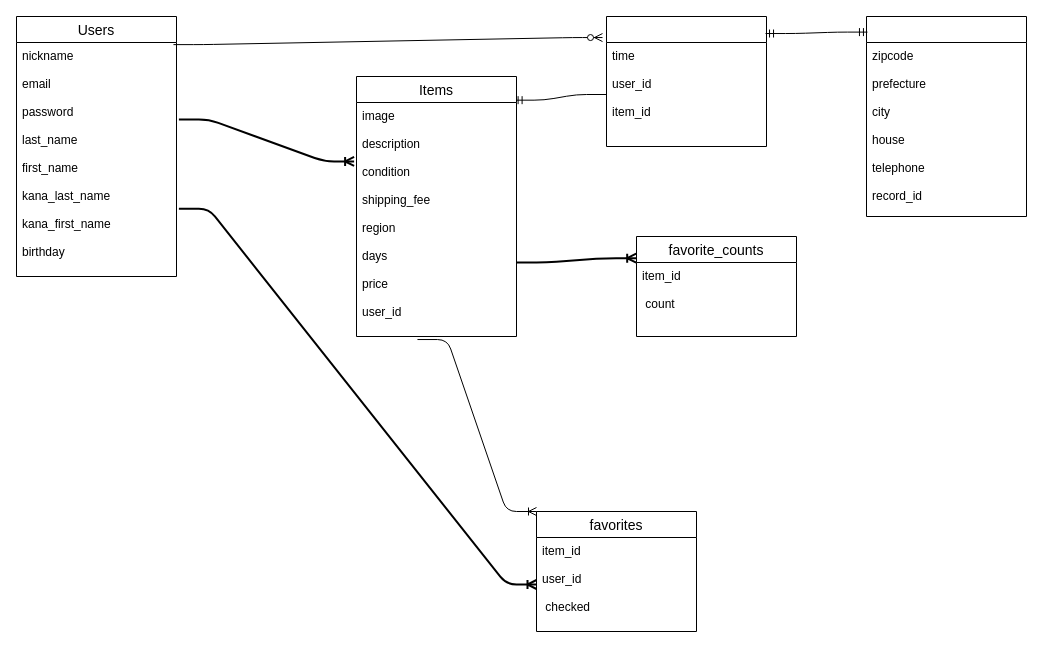
This 1043x648 diagram has some shape labels left out. The shapes that lost their labels are listed below. From the top down, each one's box as (x1, y1, x2, y2) in pixels, then its label:
(606, 16, 766, 146): Records
(866, 16, 1026, 216): Adresses
